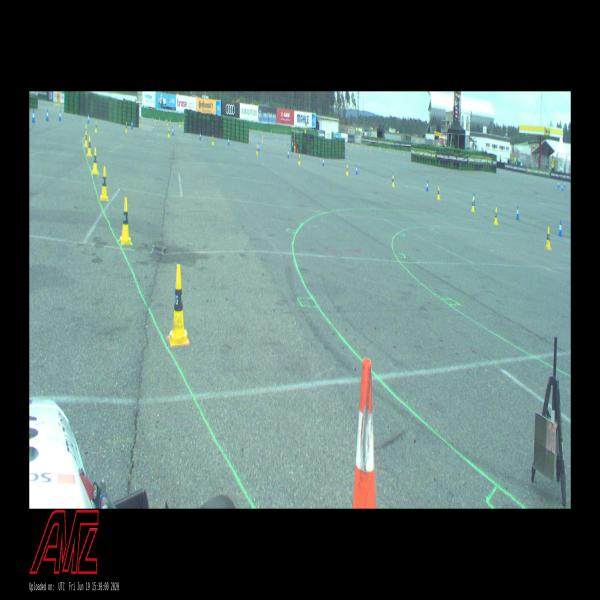blue_cone: (558, 220, 562, 237), (32, 110, 36, 122), (516, 205, 519, 220), (58, 110, 62, 121), (472, 192, 475, 206), (46, 109, 49, 121), (391, 172, 394, 184), (355, 164, 358, 175), (322, 156, 325, 167), (87, 113, 90, 124), (287, 148, 290, 159), (227, 136, 230, 146), (200, 130, 202, 140), (172, 126, 174, 136), (426, 181, 428, 191), (131, 119, 133, 129), (258, 142, 260, 152)
orange_cone: (352, 358, 377, 509)
yellow_cone: (168, 264, 189, 346), (118, 197, 130, 245), (100, 166, 109, 201), (92, 148, 98, 174), (545, 227, 551, 250), (87, 136, 92, 156), (494, 207, 498, 225), (84, 130, 88, 147), (84, 124, 88, 140), (471, 198, 475, 212), (437, 186, 440, 200), (298, 154, 301, 165), (125, 122, 128, 132), (95, 120, 97, 134), (168, 126, 170, 138), (212, 134, 214, 146), (346, 164, 348, 176), (392, 175, 394, 187), (256, 145, 258, 155)
